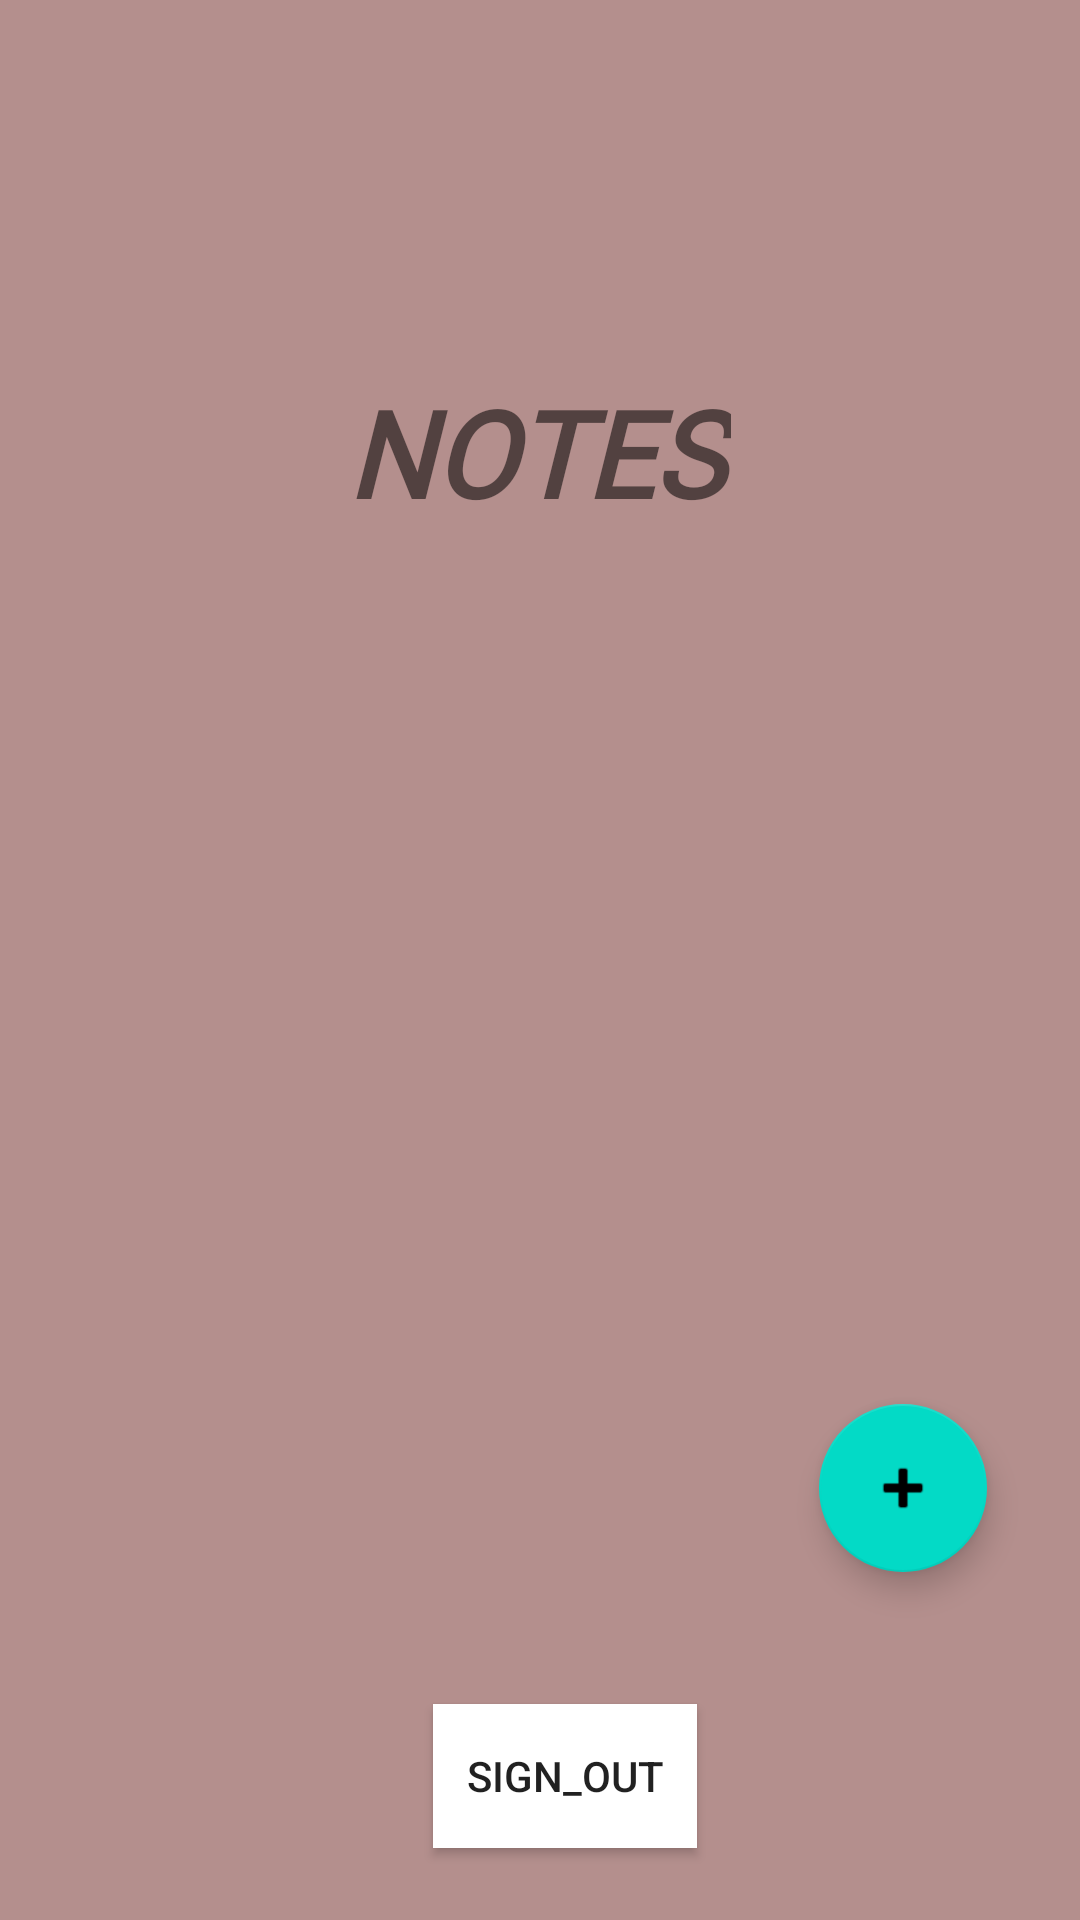

Where icons sit on this 1080px×1920px app screen, as (x1, y1, x2, y2):
add: (819, 1404, 987, 1572)
